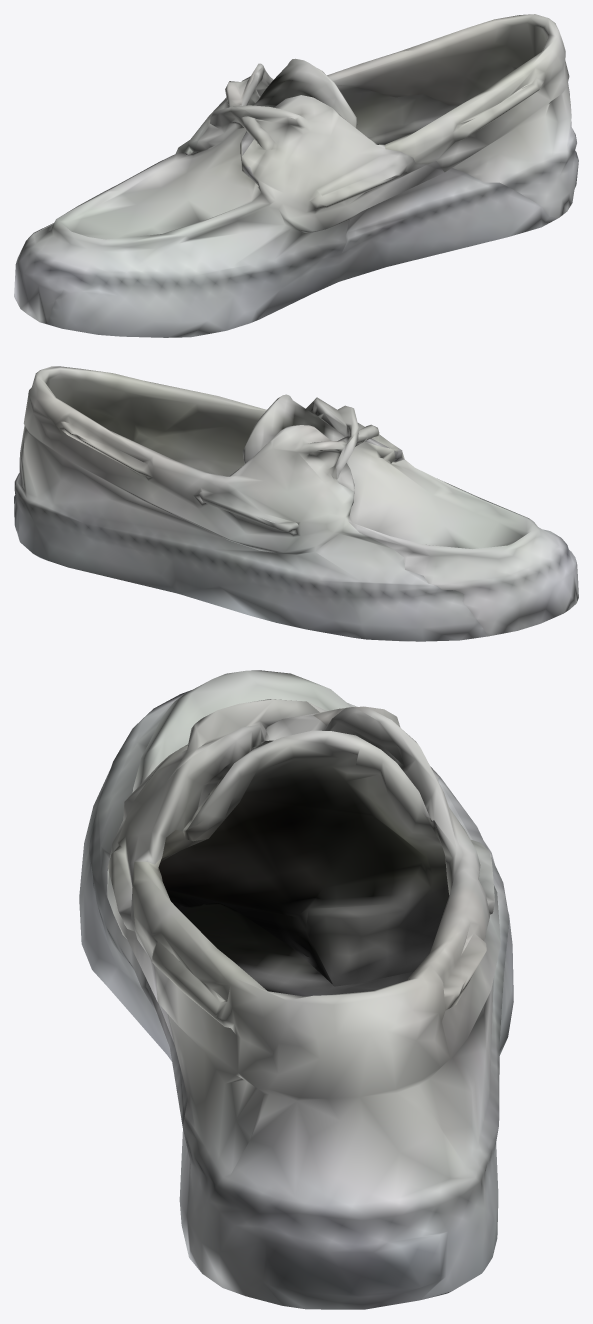
The model's file is Womens_Canvas_Bahama_in_White_UfZPHGQpvz0-medium.glb.
3 renders of one model, top to bottom at view 1: azimuth 30°, elevation 25°; view 2: azimuth 150°, elevation 25°; view 3: azimuth 270°, elevation 25°, orthographic. The views are drawn at different scales.
Parts seen in each view (by area): view 1: Womens_Canvas_Bahama_in_White_UfZPHGQpvz0; view 2: Womens_Canvas_Bahama_in_White_UfZPHGQpvz0; view 3: Womens_Canvas_Bahama_in_White_UfZPHGQpvz0.
Boxes of the visible parts, x1,y1,x2,y2 form: Womens_Canvas_Bahama_in_White_UfZPHGQpvz0: [14, 14, 578, 337]; Womens_Canvas_Bahama_in_White_UfZPHGQpvz0: [14, 366, 578, 641]; Womens_Canvas_Bahama_in_White_UfZPHGQpvz0: [79, 670, 513, 1309].
Size of the model in its own units: 0.2438 by 0.0801 by 0.0877.
Materials: 1 (1 with a texture image).
